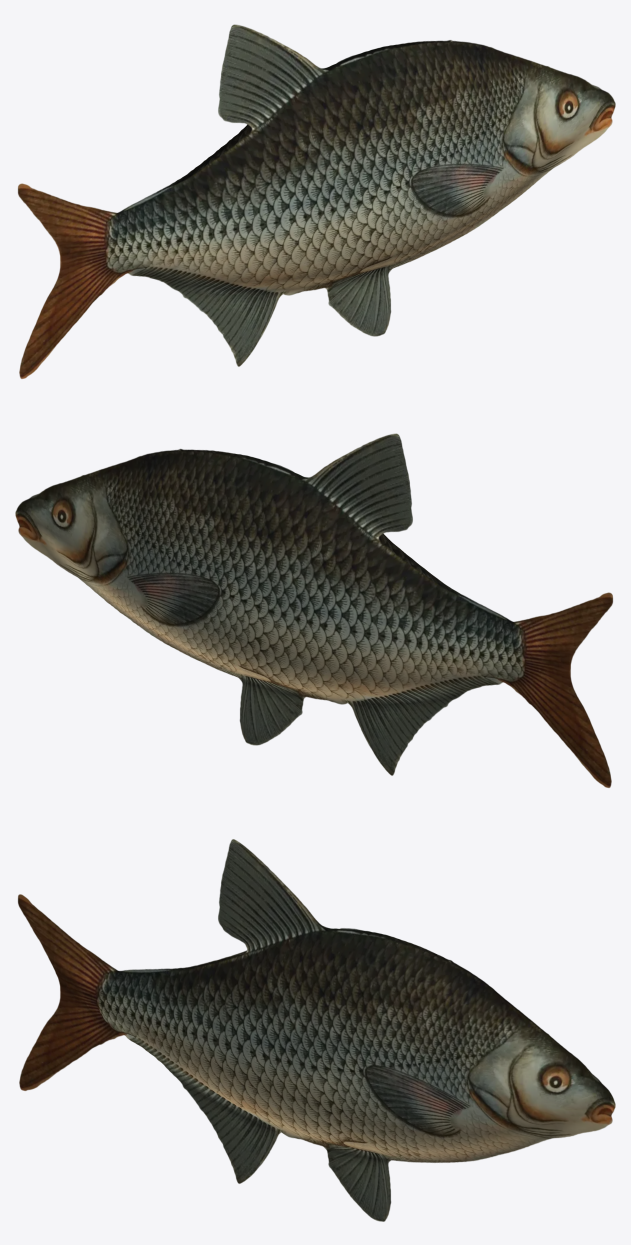
Rendered from breme-commune.glb.
3 views of the same model, one above another, from view 1: azimuth 30°, elevation 25°; view 2: azimuth 150°, elevation 25°; view 3: azimuth 330°, elevation 25° (orthographic).
Parts seen in each view (by area): view 1: breme-commune; view 2: breme-commune; view 3: breme-commune.
Boxes of the visible parts, x1,y1,x2,y2 form: breme-commune: [18, 24, 615, 378]; breme-commune: [15, 433, 612, 787]; breme-commune: [18, 839, 615, 1221].
Bounding box in the file's own units: 1 × 0.5591 × 0.134.
Materials: 1 (1 with a texture image).
